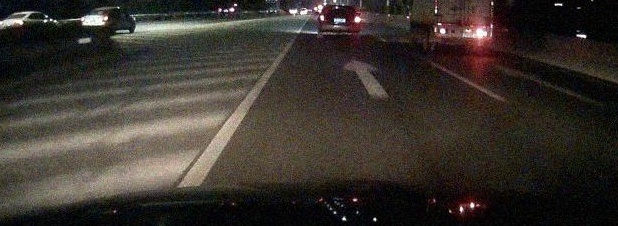L_light: (319, 15, 325, 21), (81, 17, 85, 22)
R_light: (354, 17, 360, 23), (103, 16, 109, 21)
T_light: (336, 6, 342, 9), (100, 9, 105, 11)
night-no: (81, 7, 112, 35)
night-right: (318, 4, 361, 39)
